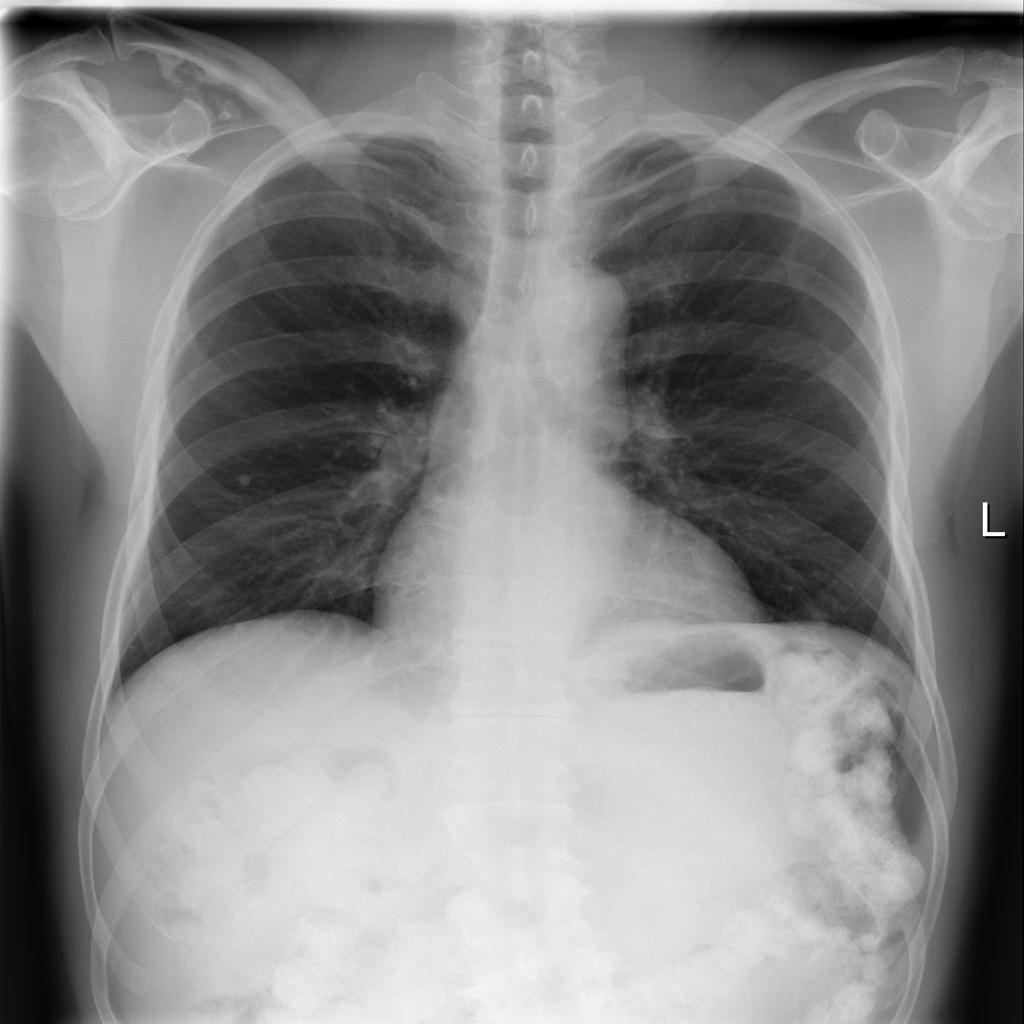nodule: (223, 458, 264, 492)
